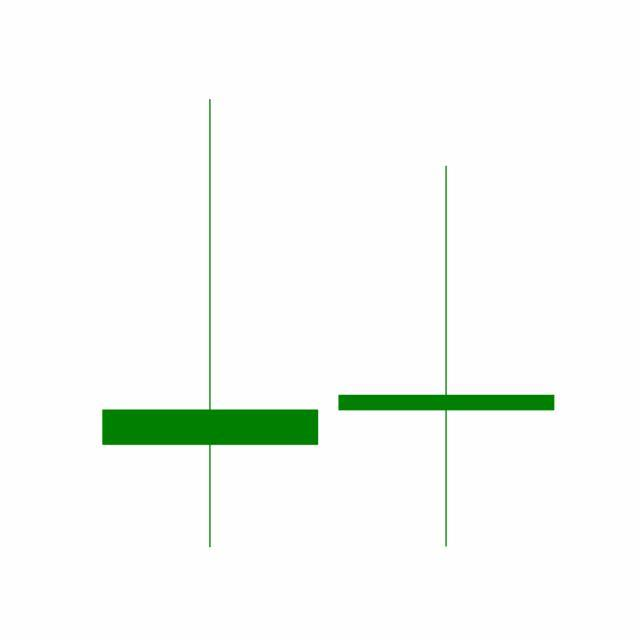Spinning Top: (328, 162, 566, 552)
